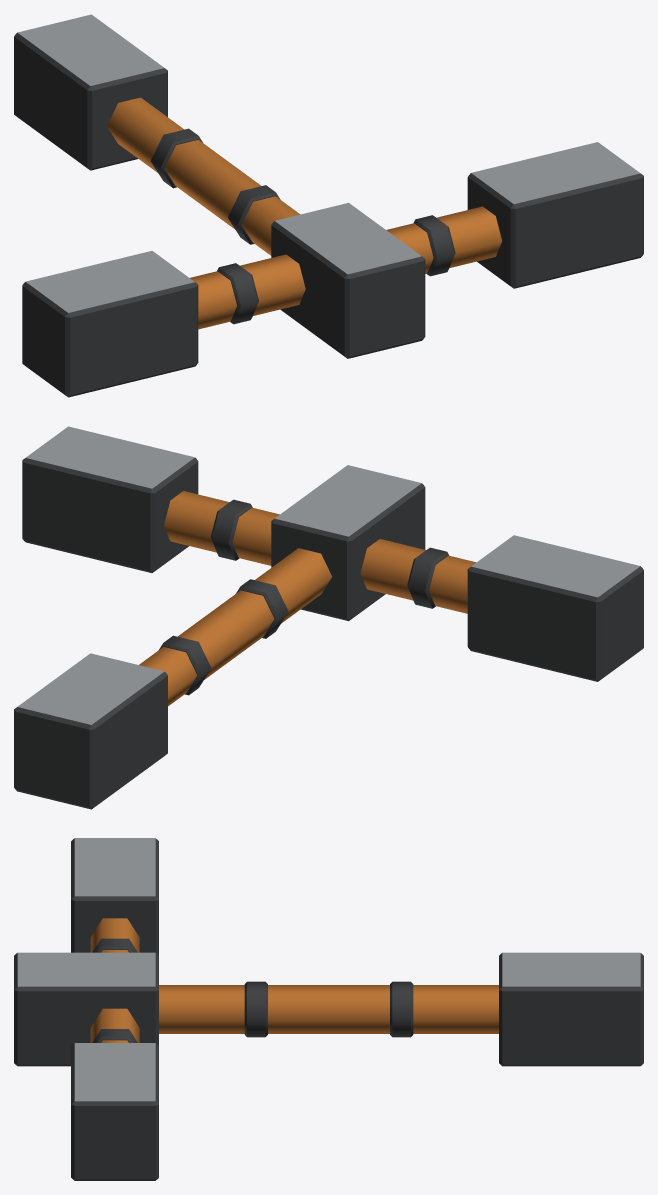
The model's file is R4C_ROD_T_LOD1.fbx.
3 renders of one model, top to bottom at view 1: azimuth 30°, elevation 25°; view 2: azimuth 150°, elevation 25°; view 3: azimuth 270°, elevation 25°, orthographic. The views are drawn at different scales.
Parts seen in each view (by area): view 1: R4C_ROD_T_LOD1; view 2: R4C_ROD_T_LOD1; view 3: R4C_ROD_T_LOD1.
Boxes of the visible parts, box(x1,y1,x2,y2) form: R4C_ROD_T_LOD1: box(14, 14, 643, 397); R4C_ROD_T_LOD1: box(14, 426, 643, 809); R4C_ROD_T_LOD1: box(14, 838, 643, 1180).
Size of the model in its own units: 1.62 by 0.226 by 1.62.
